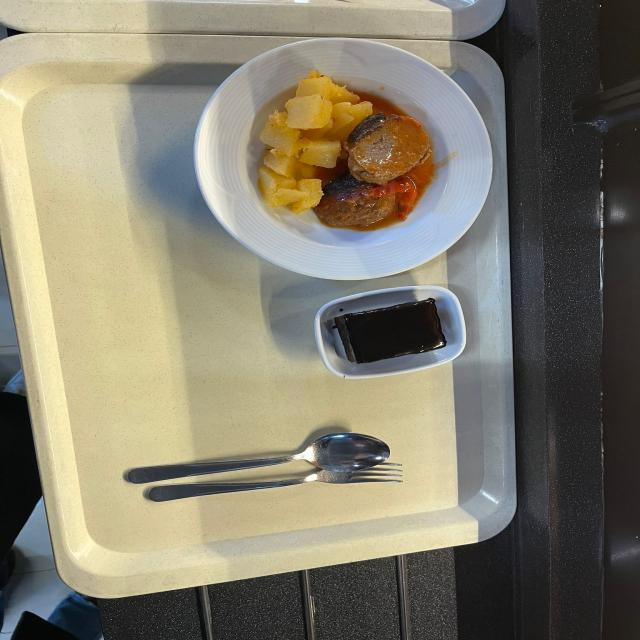ana_yemek: (196, 37, 492, 273)
yan_yemek: (315, 287, 467, 377)
